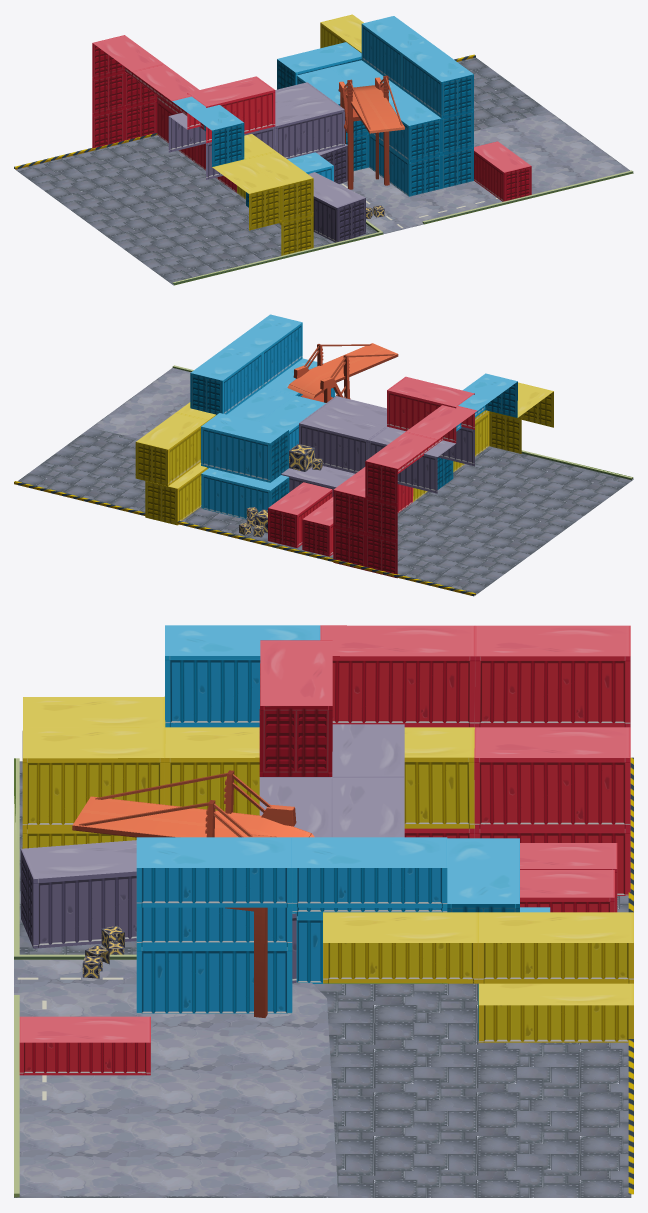
The model's file is scene_containertocity_01.FBX.
3 views of the same model, one above another, from view 1: azimuth 30°, elevation 25°; view 2: azimuth 150°, elevation 25°; view 3: azimuth 270°, elevation 25° (orthographic). The views are drawn at different scales.
Visible parts, largest first — view 1: scene_containertocity_01; view 2: scene_containertocity_01; view 3: scene_containertocity_01.
Part boxes in pixels (<box>): scene_containertocity_01: <box>14,14,633,285</box>; scene_containertocity_01: <box>14,314,633,596</box>; scene_containertocity_01: <box>14,625,633,1197</box>.
Size of the model in its own units: 10000 by 2319 by 6001.
